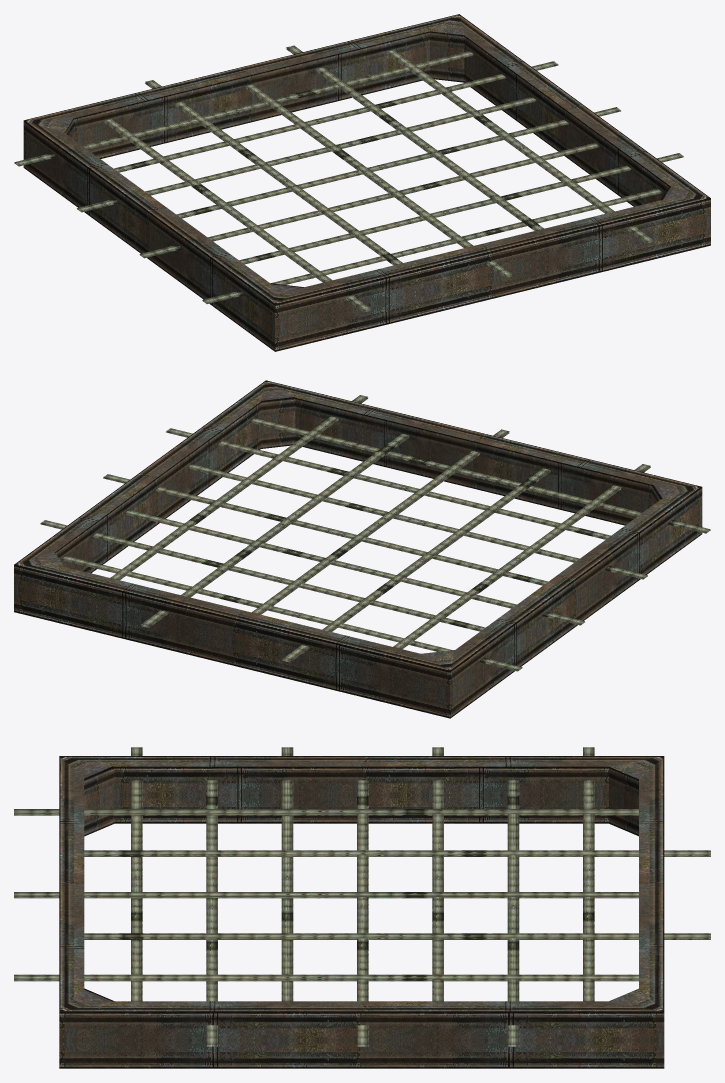
Rendered from CMDL_F856C70D.obj.
3 renders of one model, top to bottom at view 1: azimuth 30°, elevation 25°; view 2: azimuth 150°, elevation 25°; view 3: azimuth 270°, elevation 25°, orthographic. The views are drawn at different scales.
Visible parts, largest first — view 1: CMDL_F856C70D; view 2: CMDL_F856C70D; view 3: CMDL_F856C70D.
Part boxes in pixels (x1,y1,x2,y2): CMDL_F856C70D: (14, 14, 710, 351); CMDL_F856C70D: (14, 380, 710, 718); CMDL_F856C70D: (14, 747, 710, 1068).
Bounding box in the file's own units: 9.37 × 0.8332 × 9.25.
Materials: 2 (2 with a texture image).
